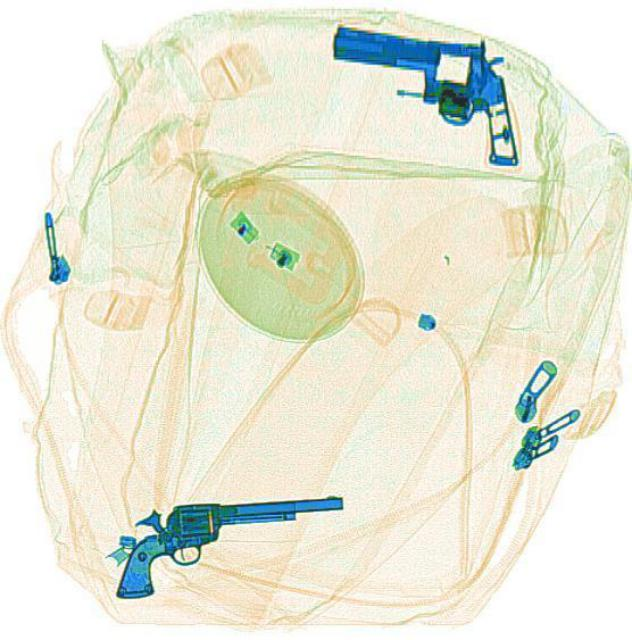Gun: (311, 15, 536, 165), (110, 493, 347, 597)
